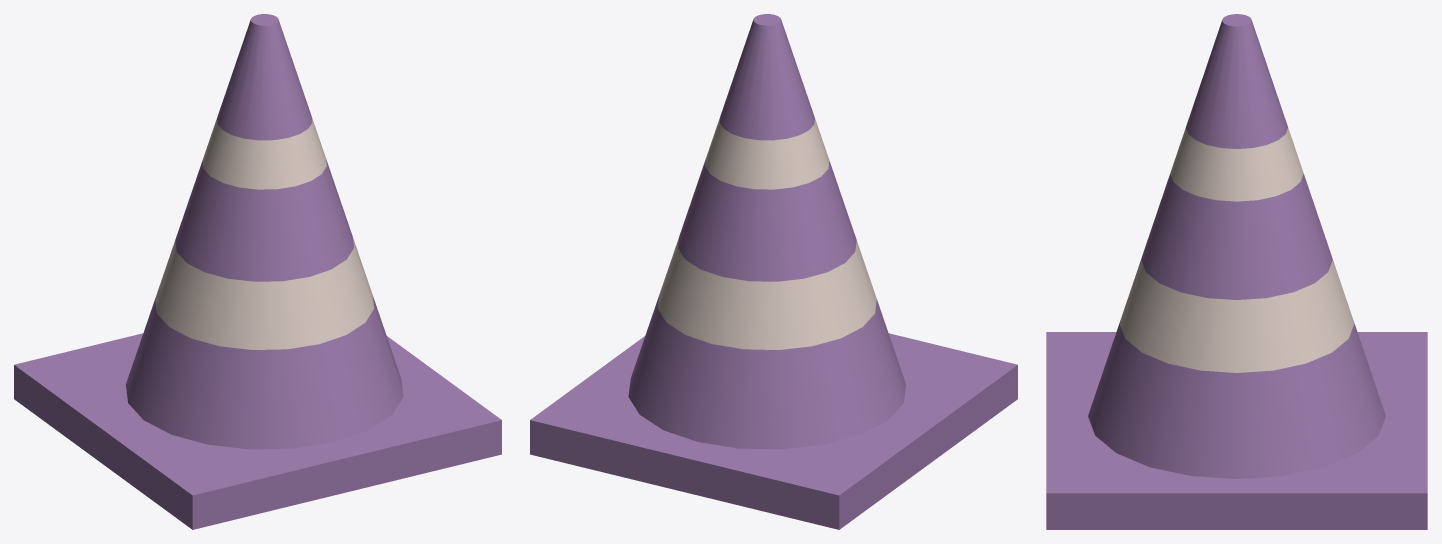
File: Safety_Cone.fbx
The picture shows the model from 3 angles, left to right: view 1: azimuth 30°, elevation 25°; view 2: azimuth 150°, elevation 25°; view 3: azimuth 270°, elevation 25°; orthographic projection. The views are drawn at different scales.
Parts seen in each view (by area): view 1: Safety_Cone; view 2: Safety_Cone; view 3: Safety_Cone.
Boxes of the visible parts, bbox=[...] form: Safety_Cone: bbox=[14, 14, 501, 529]; Safety_Cone: bbox=[530, 14, 1017, 529]; Safety_Cone: bbox=[1046, 14, 1427, 529].
Bounding box in the file's own units: 0.5362 × 0.6716 × 0.5366.
